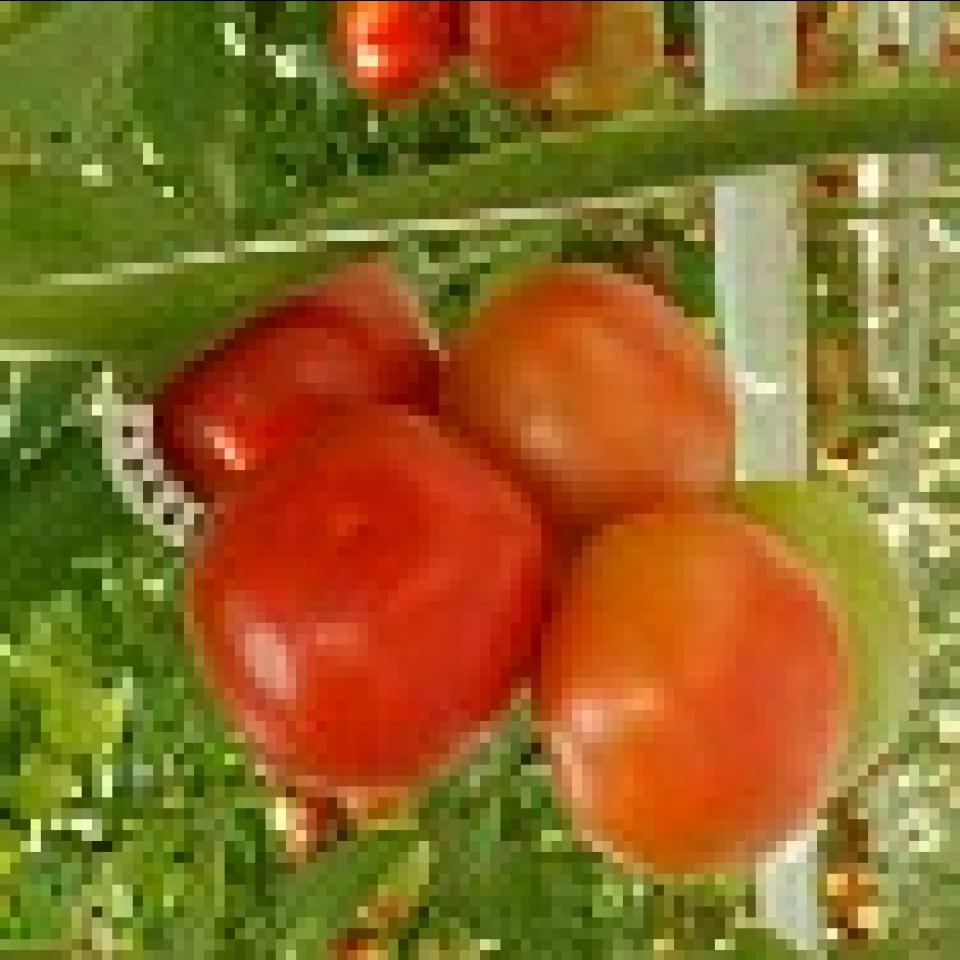Healthy: (178, 440, 520, 782), (537, 517, 840, 895), (125, 244, 441, 528)
